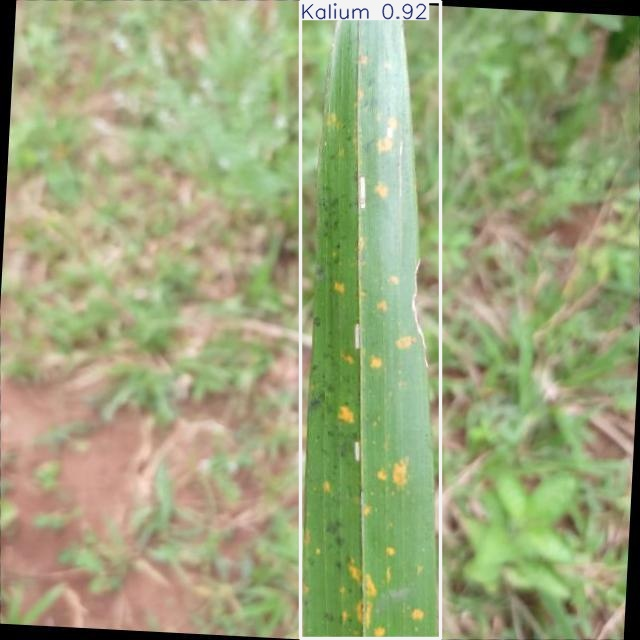Kalium: (301, 2, 440, 639)
